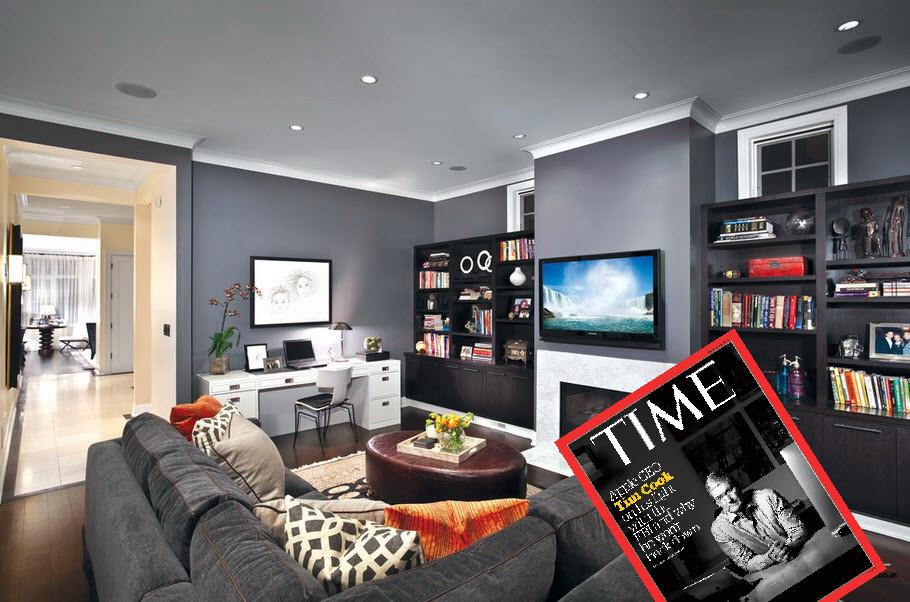times: (555, 306, 892, 602)
